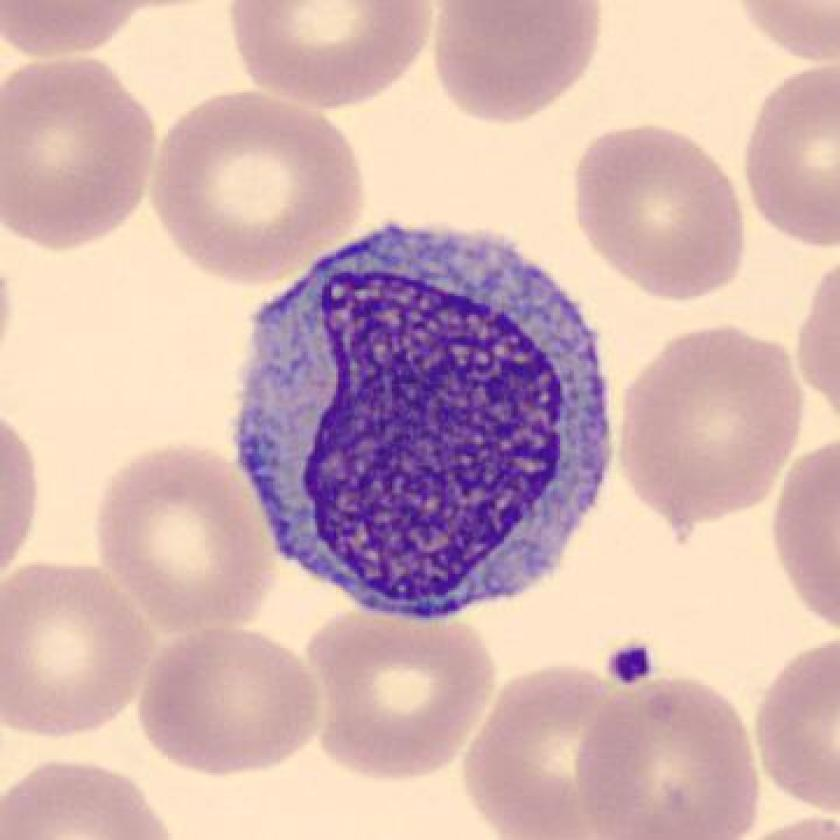monocyte: (218, 205, 638, 640)
